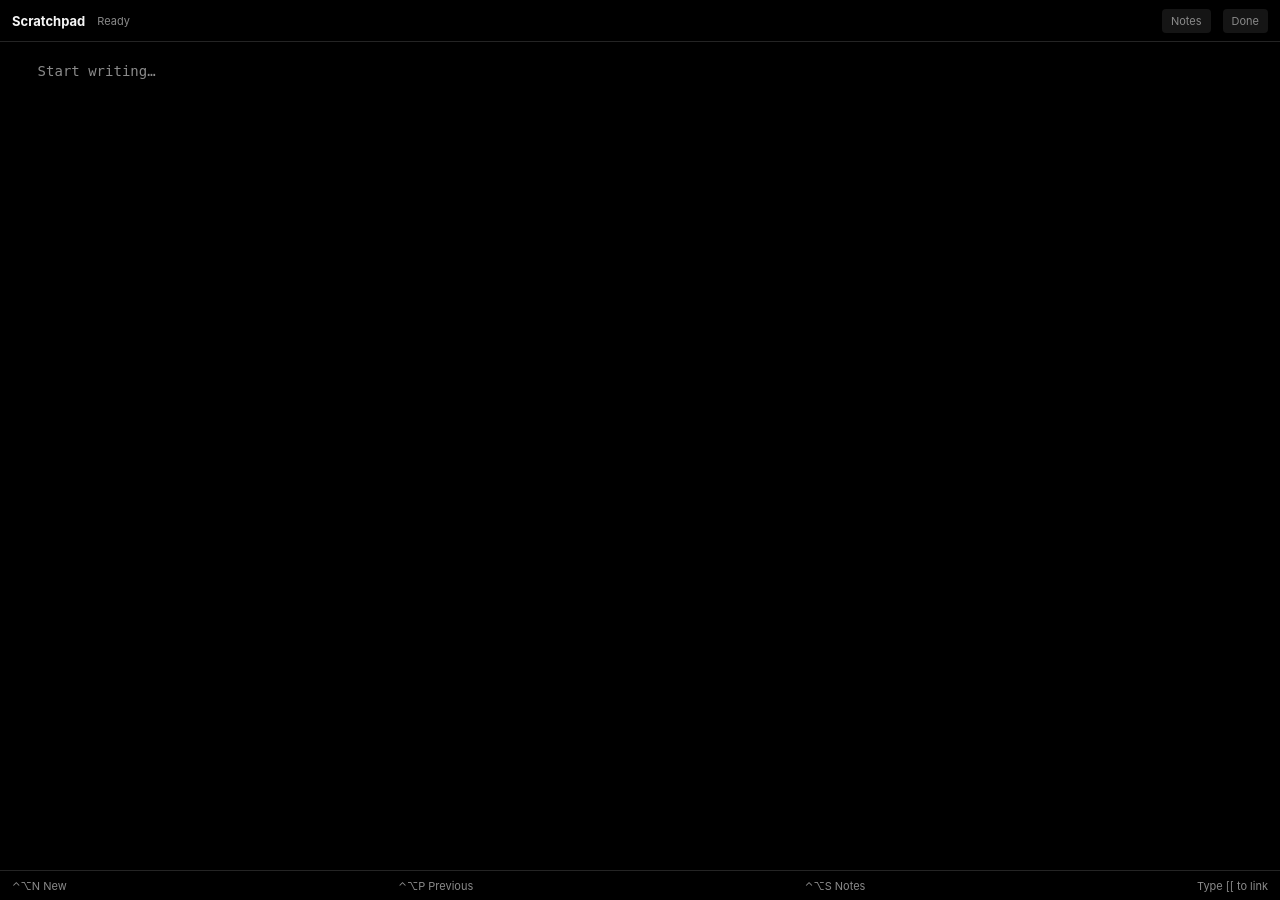
Scratchpad › lists active captures and opens one in the same lightweight window
Press s in the field named "Scratchpad Markdown", box [38, 63, 156, 79]
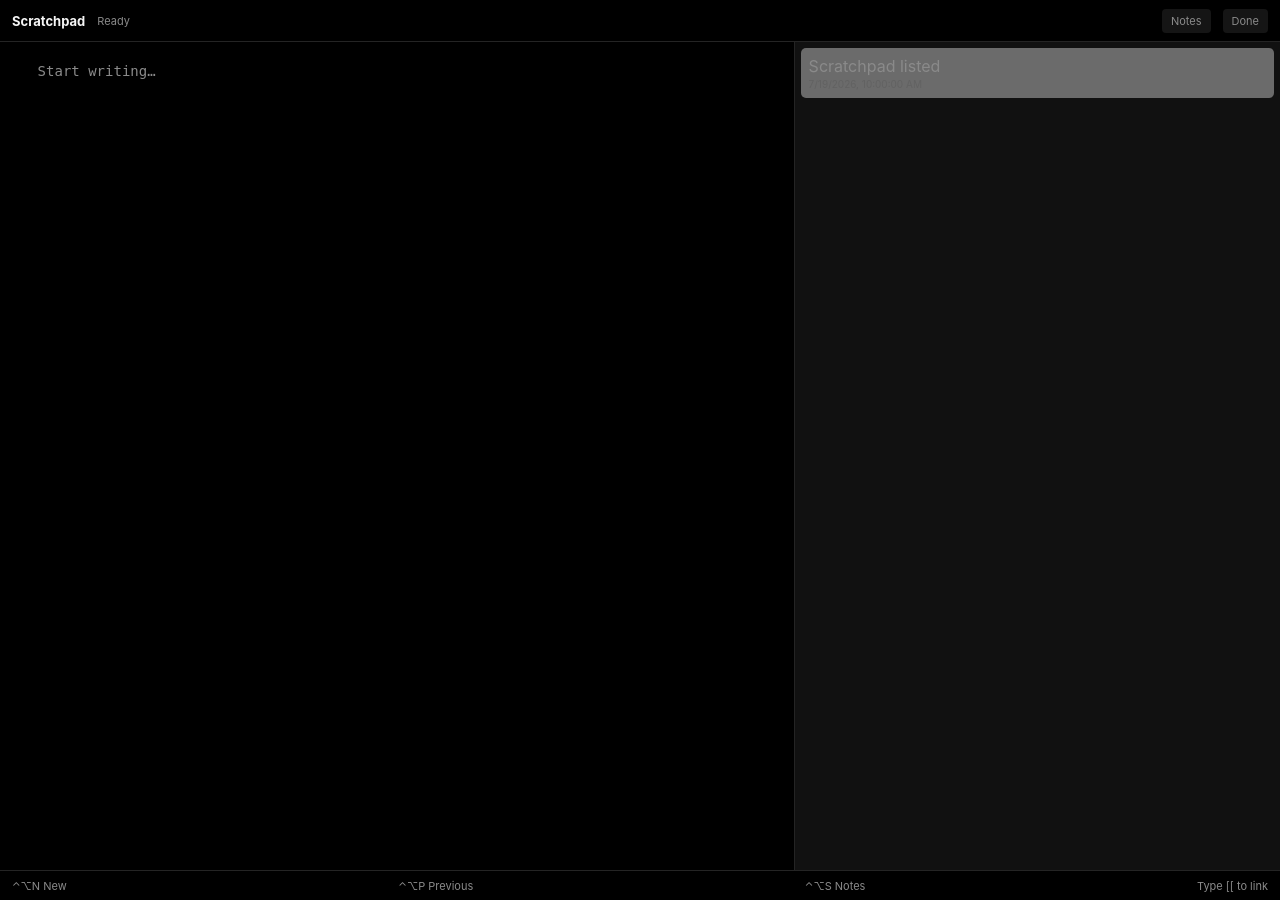
Click the button "Scratchpad listed 7/19/2026, 10:00:00 AM". click: (874, 66)
box: [801, 48, 1274, 98]
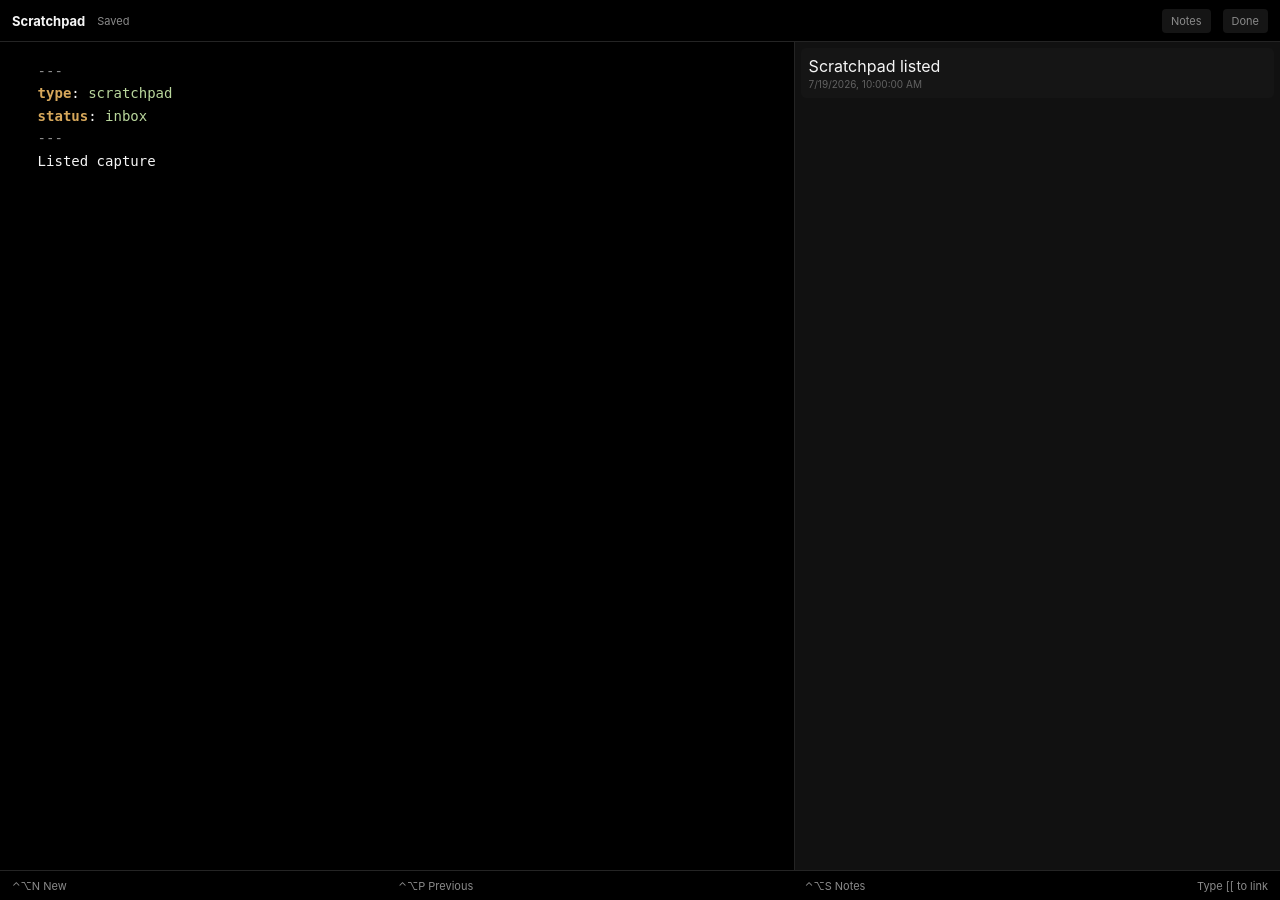
Now the text box "Listed capture" is shown, box [38, 153, 156, 169]
